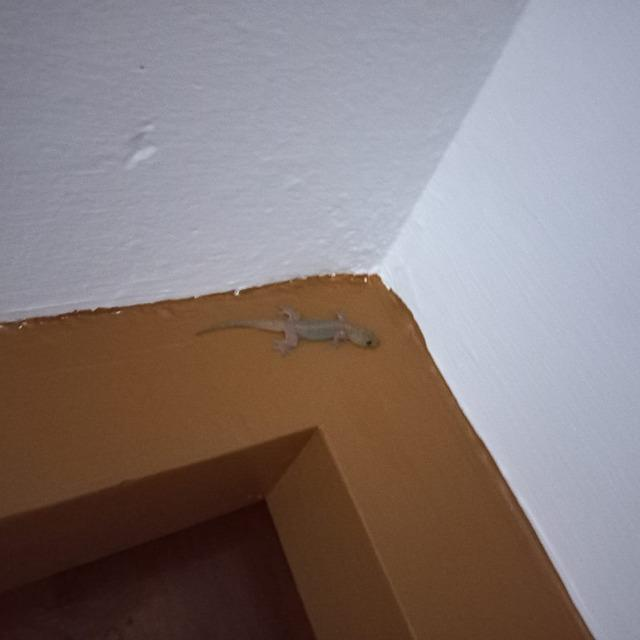lizard: (194, 301, 382, 359)
